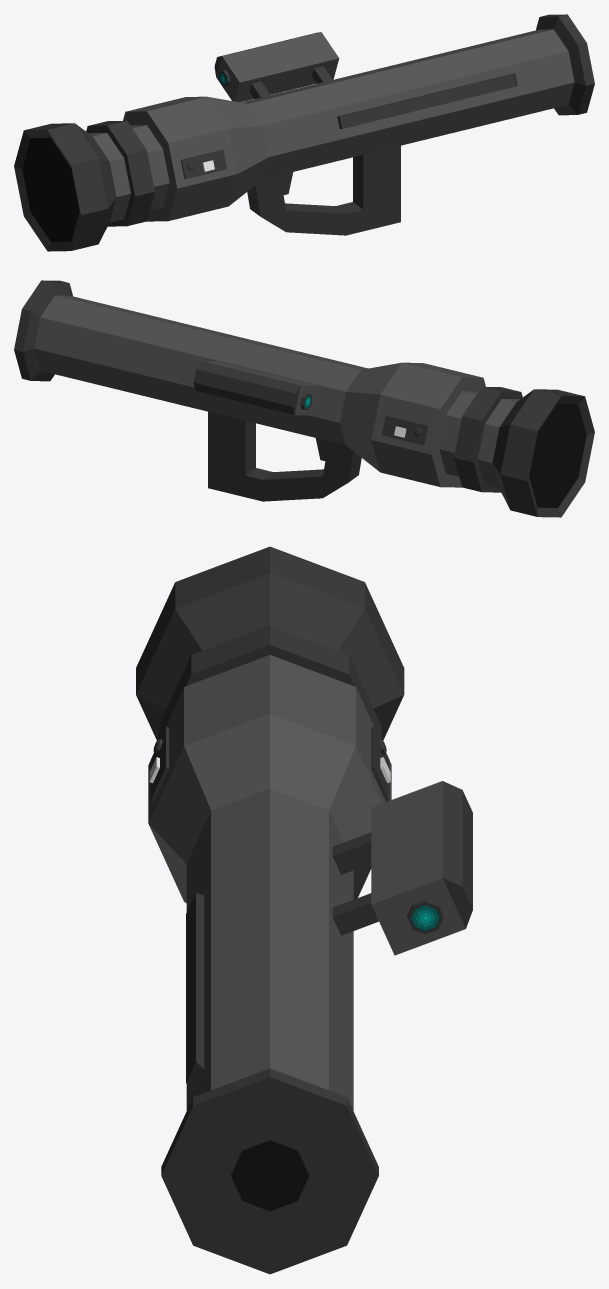
File: Rocket_Launcher_V1.FBX
The picture shows the model from 3 angles, top to bottom: view 1: azimuth 30°, elevation 25°; view 2: azimuth 150°, elevation 25°; view 3: azimuth 270°, elevation 25°; orthographic projection. The views are drawn at different scales.
Parts seen in each view (by area): view 1: Rocket_Launcher_V1; view 2: Rocket_Launcher_V1; view 3: Rocket_Launcher_V1.
Part boxes in pixels (x1,y1,x2,y2): Rocket_Launcher_V1: [14, 14, 594, 251]; Rocket_Launcher_V1: [14, 280, 594, 517]; Rocket_Launcher_V1: [136, 546, 472, 1274].
Bounding box in the file's own units: 461 × 147 × 129.
